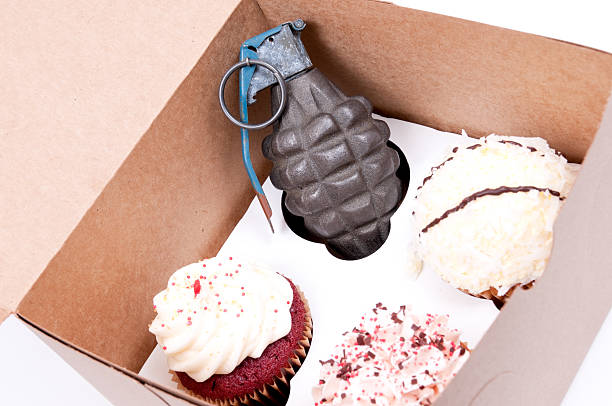e1: (218, 21, 404, 254)
